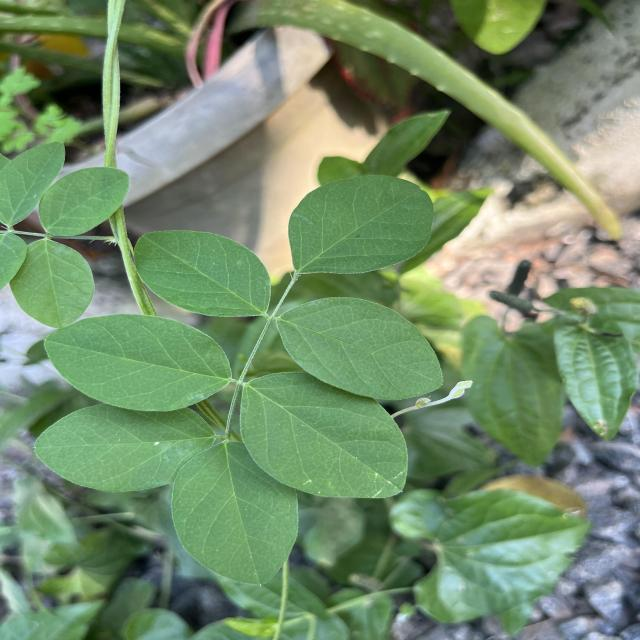Clitoria ternatea: (238, 371, 410, 499), (170, 439, 301, 586), (44, 313, 232, 413), (276, 296, 445, 402), (33, 402, 217, 493), (286, 172, 436, 276), (132, 229, 272, 318)
